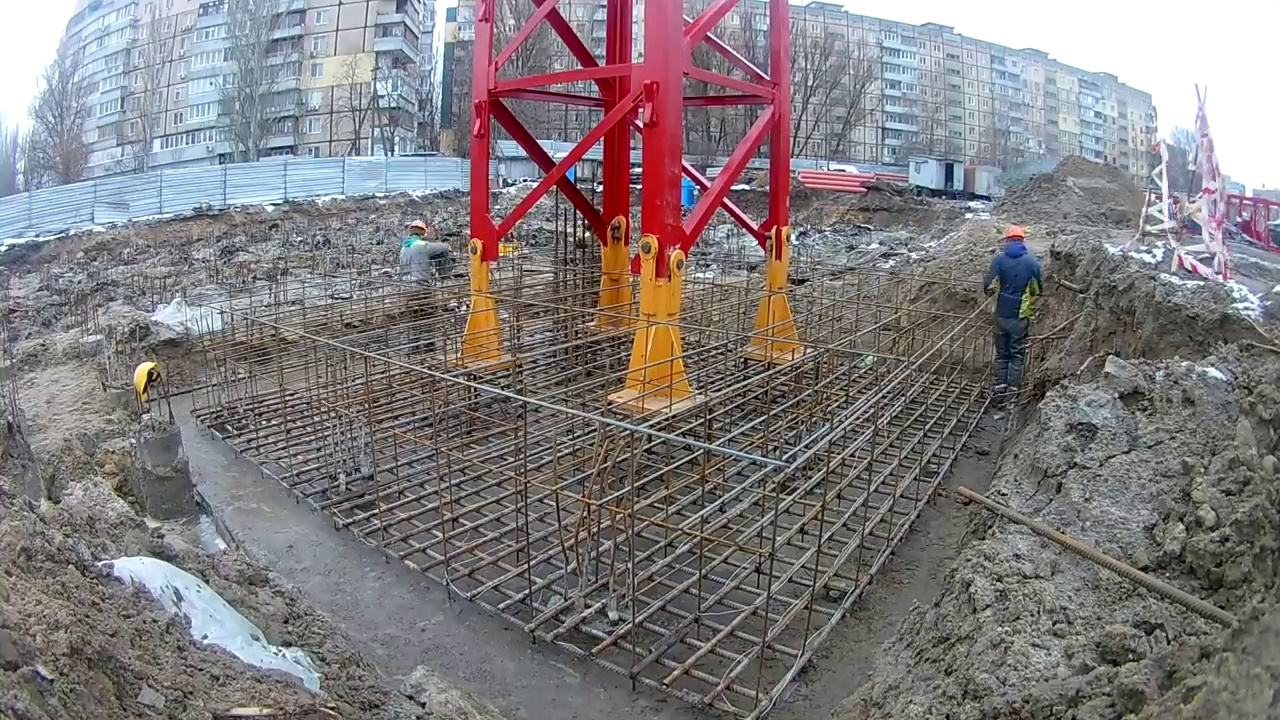helmet: (133, 361, 158, 401), (1004, 226, 1026, 242), (407, 221, 427, 232)
helmet-on: (1003, 226, 1026, 254), (407, 221, 427, 242)
person: (983, 225, 1044, 411), (398, 221, 451, 288)
